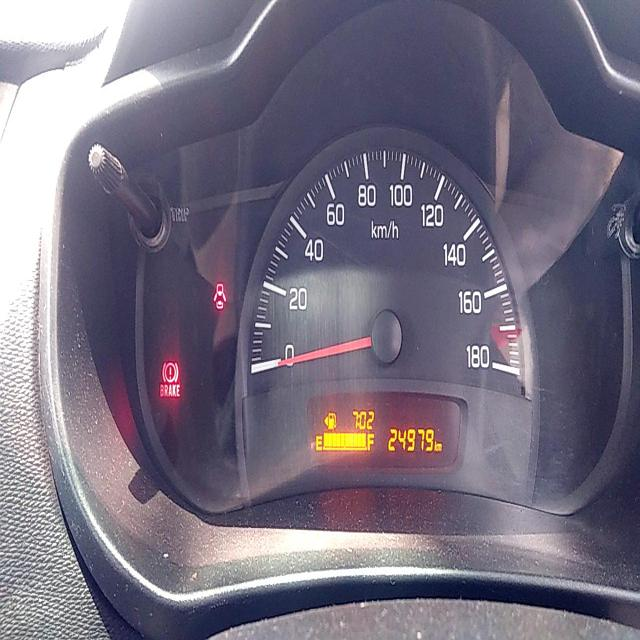odometer: (386, 420, 434, 456)
